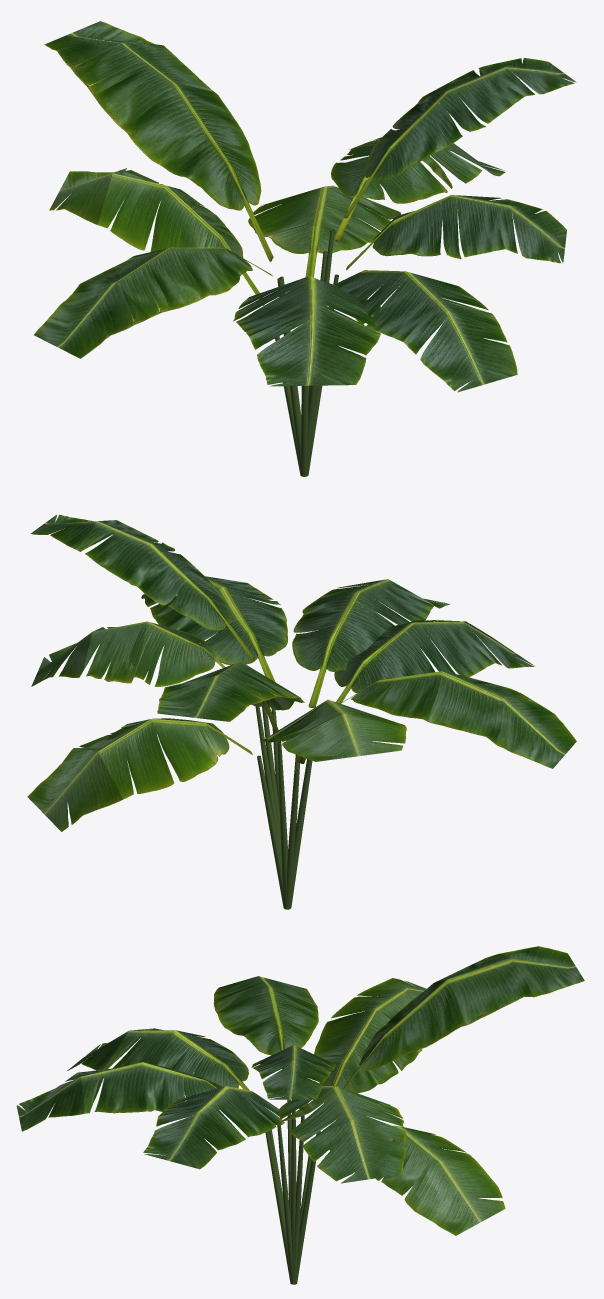
File: broadleaf_01.glb
The picture shows the model from 3 angles, top to bottom: view 1: azimuth 30°, elevation 25°; view 2: azimuth 150°, elevation 25°; view 3: azimuth 270°, elevation 25°; orthographic projection. The views are drawn at different scales.
Parts seen in each view (by area): view 1: broadleaf_01; view 2: broadleaf_01; view 3: broadleaf_01.
Boxes of the visible parts, <box> form: broadleaf_01: <box>34,21,576,476</box>; broadleaf_01: <box>27,514,576,909</box>; broadleaf_01: <box>16,946,584,1284</box>.
Size of the model in its own units: 2.66 by 1.7 by 2.9.
2 materials, 1 textured.
